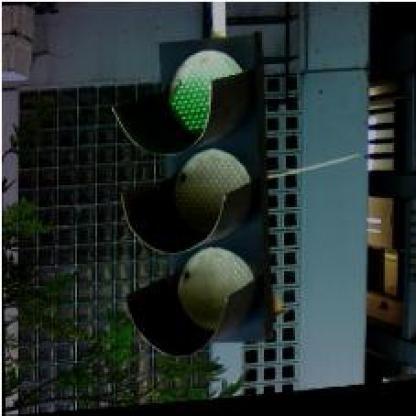green: (117, 35, 268, 357)
